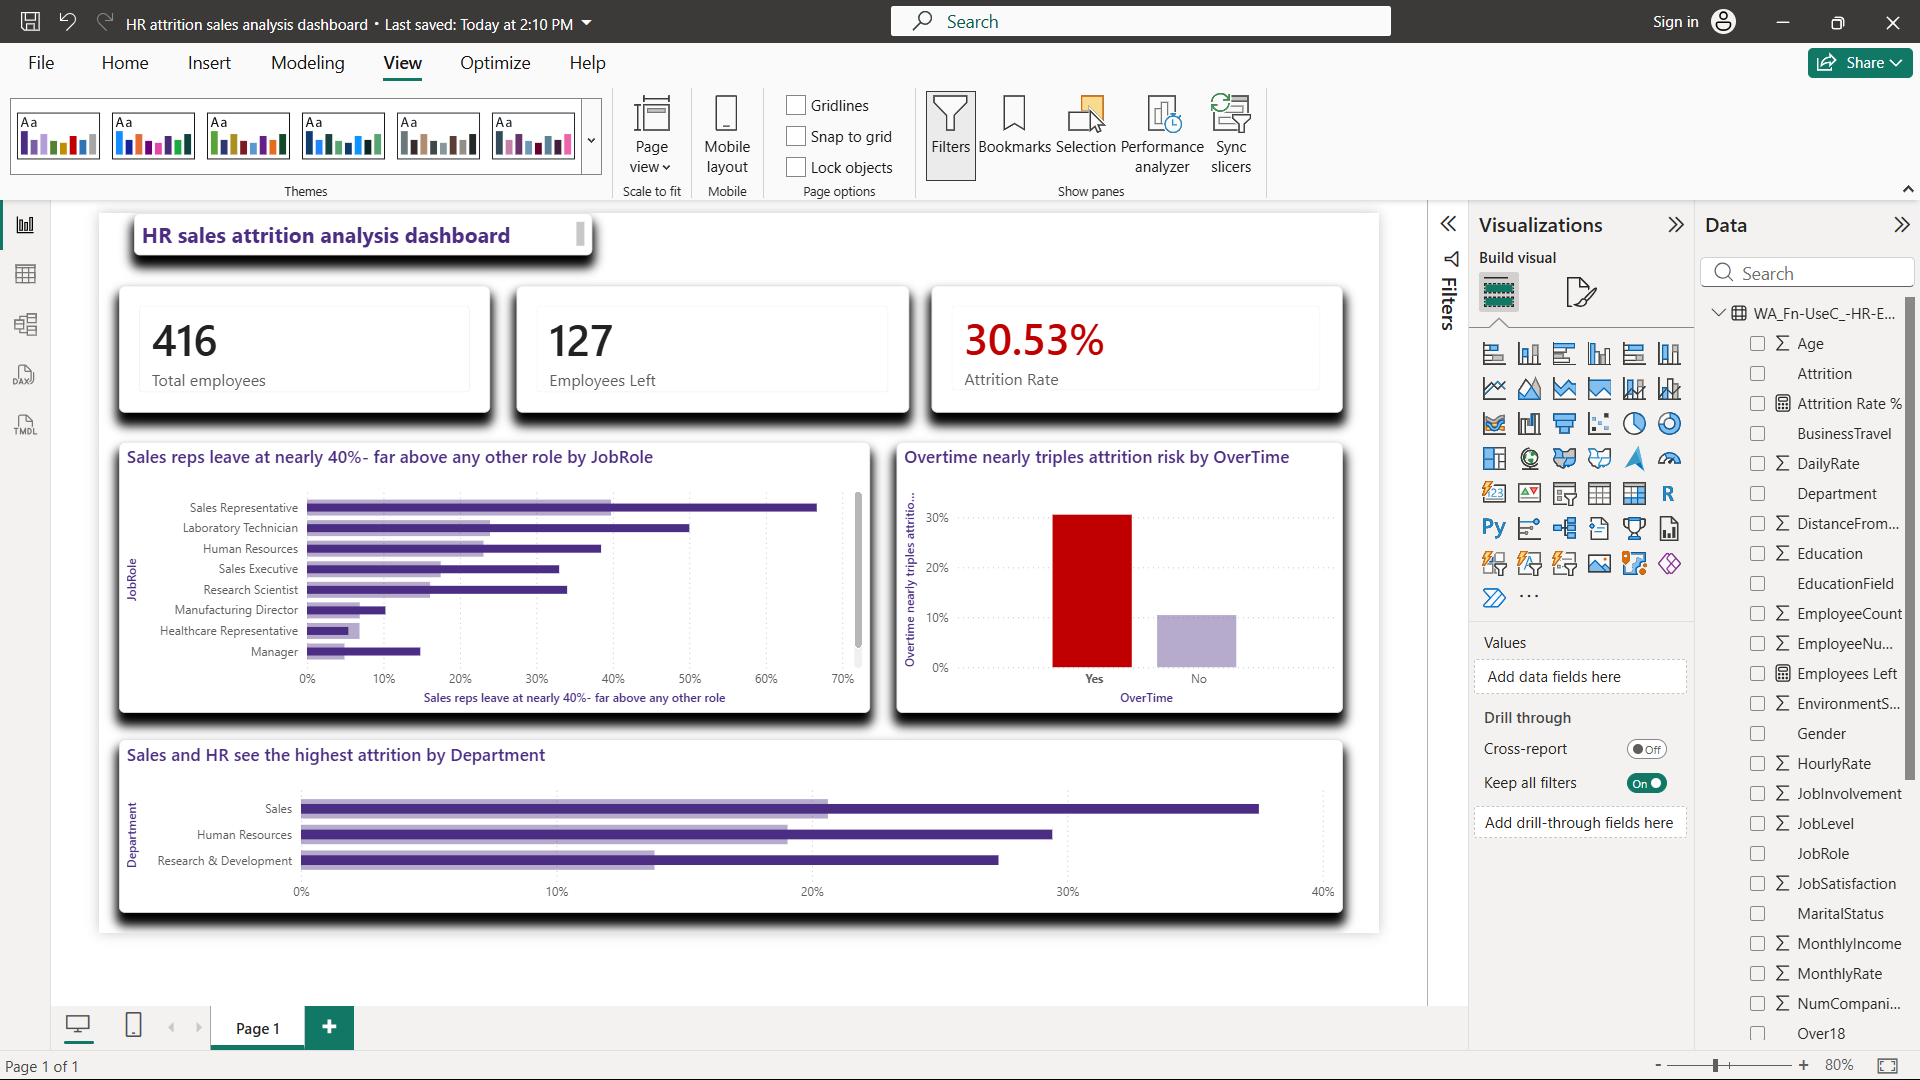

Layout of this report page (visuals, bound fields, positions):
{"tool":"powerbi","page":{"name":"Page 1","canvas":[1280,720],"ordinal":0},"visuals":[{"type":"cardVisual","fields":{"Data":["CountNonNull(WA_Fn-UseC_-HR-Employee-Attrition.EmployeeNumber)"]},"box":[20,72.5,371.2,127.5],"z":0},{"type":"cardVisual","fields":{"Data":["WA_Fn-UseC_-HR-Employee-Attrition.Employees Left"]},"box":[417.5,72.5,392.5,127.5],"z":1},{"type":"cardVisual","fields":{"Data":["WA_Fn-UseC_-HR-Employee-Attrition.Attrition Rate %"]},"box":[832.5,72.5,411.2,127.5],"z":2},{"type":"clusteredBarChart","fields":{"Category":["WA_Fn-UseC_-HR-Employee-Attrition.JobRole"],"Y":["WA_Fn-UseC_-HR-Employee-Attrition.Attrition Rate %"]},"box":[20,228.8,751.2,271.2],"z":3},{"type":"clusteredColumnChart","fields":{"Category":["WA_Fn-UseC_-HR-Employee-Attrition.OverTime"],"Y":["WA_Fn-UseC_-HR-Employee-Attrition.Attrition Rate %"]},"box":[797.5,228.8,446.2,271.2],"z":4},{"type":"clusteredBarChart","fields":{"Category":["WA_Fn-UseC_-HR-Employee-Attrition.Department"],"Y":["WA_Fn-UseC_-HR-Employee-Attrition.Attrition Rate %"]},"box":[20,526.2,1223.8,173.8],"z":5},{"type":"textbox","box":[35,0,345,50],"z":6}]}

Visuals, with their boxes on the page's 1280x720 design canvas (x1, y1, x2, y2). These are canvas units, not pixel positions in the 1920x1080 screenshot, which may show the page scaled, cropped or inside an application window:
cardVisual - CountNonNull(WA_Fn-UseC_-HR-Employee-Attrition.EmployeeNumber): 20, 72, 391, 200
cardVisual - WA_Fn-UseC_-HR-Employee-Attrition.Employees Left: 418, 72, 810, 200
cardVisual - WA_Fn-UseC_-HR-Employee-Attrition.Attrition Rate %: 832, 72, 1244, 200
clusteredBarChart - WA_Fn-UseC_-HR-Employee-Attrition.JobRole x WA_Fn-UseC_-HR-Employee-Attrition.Attrition Rate %: 20, 229, 771, 500
clusteredColumnChart - WA_Fn-UseC_-HR-Employee-Attrition.OverTime x WA_Fn-UseC_-HR-Employee-Attrition.Attrition Rate %: 798, 229, 1244, 500
clusteredBarChart - WA_Fn-UseC_-HR-Employee-Attrition.Department x WA_Fn-UseC_-HR-Employee-Attrition.Attrition Rate %: 20, 526, 1244, 700
textbox: 35, 0, 380, 50
